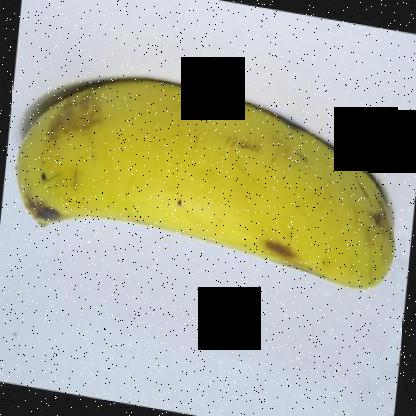freshripe: (1, 64, 411, 308)
